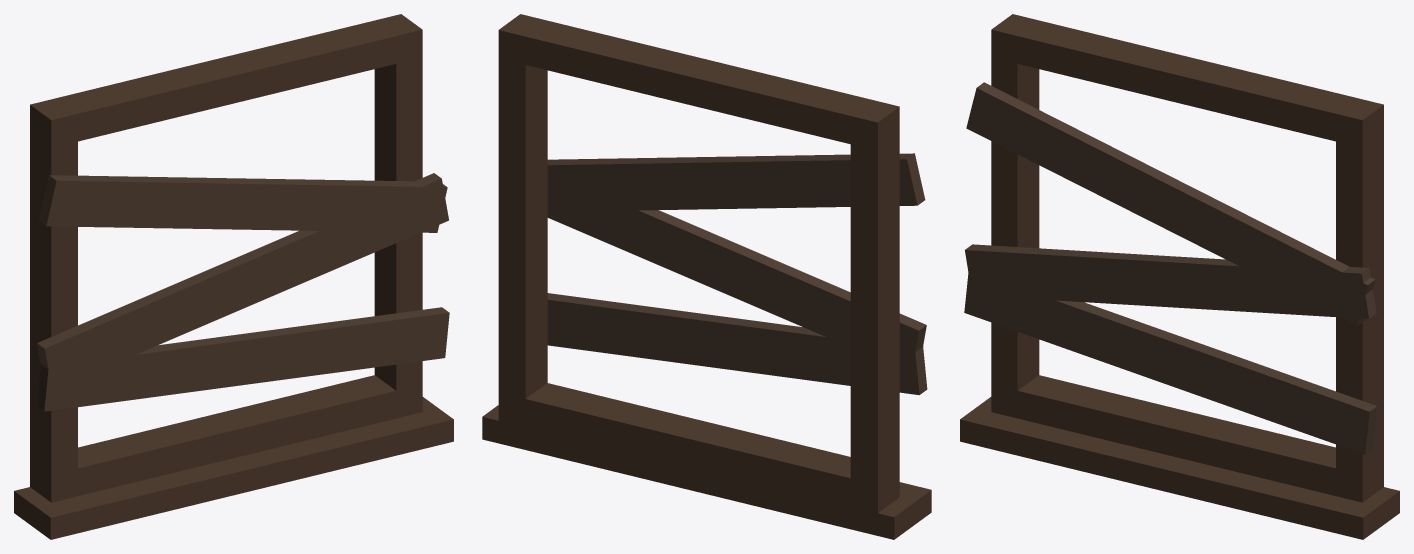
File: boarded_window.glb
3 renders of one model, left to right at view 1: azimuth 30°, elevation 25°; view 2: azimuth 150°, elevation 25°; view 3: azimuth 330°, elevation 25°, orthographic. The views are drawn at different scales.
Parts seen in each view (by area): view 1: boarded_window; view 2: boarded_window; view 3: boarded_window.
Part boxes in pixels (x1,y1,x2,y2): boarded_window: [14, 14, 453, 539]; boarded_window: [482, 14, 931, 539]; boarded_window: [960, 14, 1399, 539].
Size of the model in its own units: 0.7642 by 0.7289 by 0.12.
